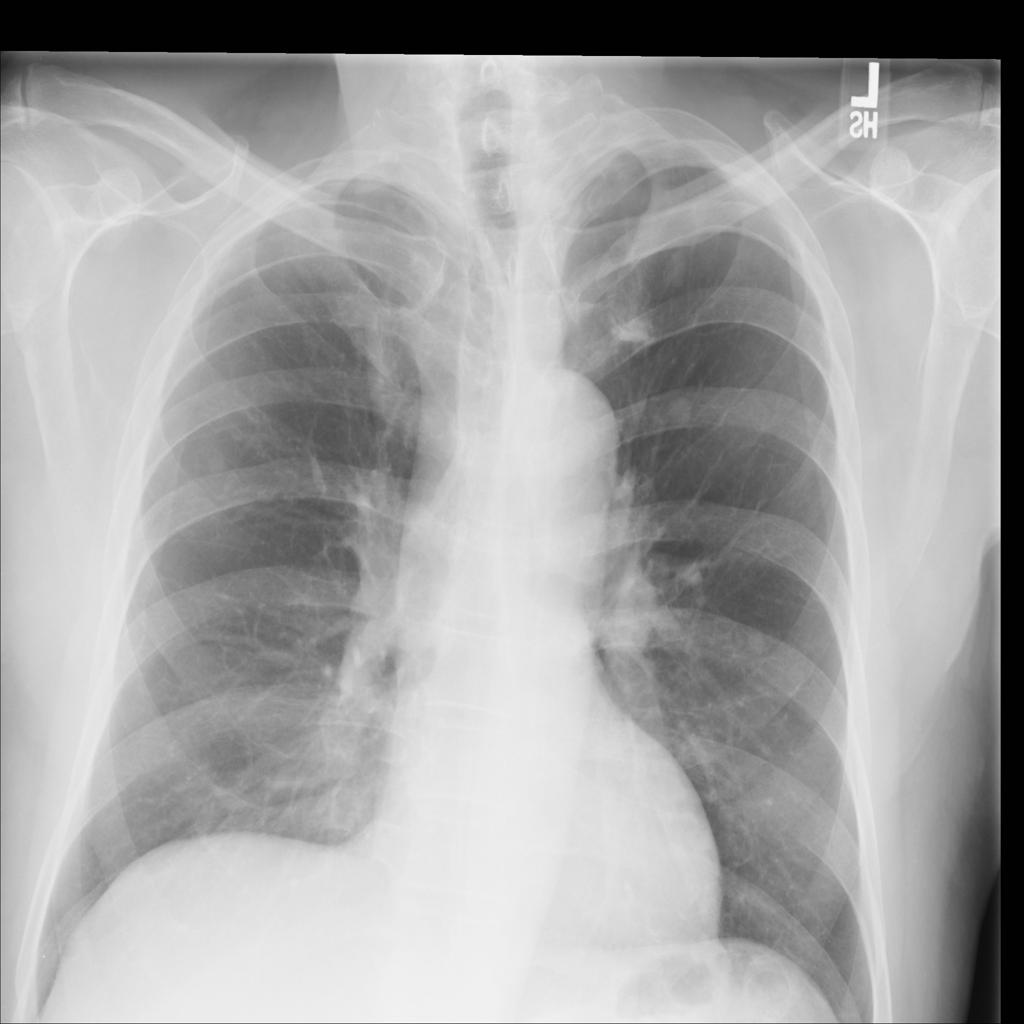nodule: (647, 224, 712, 298), (609, 305, 662, 358), (191, 433, 240, 486), (736, 614, 784, 668), (661, 381, 707, 437), (237, 471, 288, 519)
